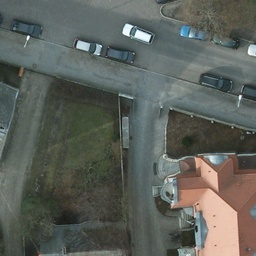car: (122, 18, 157, 44), (106, 42, 135, 67), (11, 18, 42, 39), (71, 38, 103, 56), (177, 24, 207, 39), (201, 74, 233, 88), (212, 33, 239, 47), (155, 0, 185, 7), (0, 8, 3, 24)
